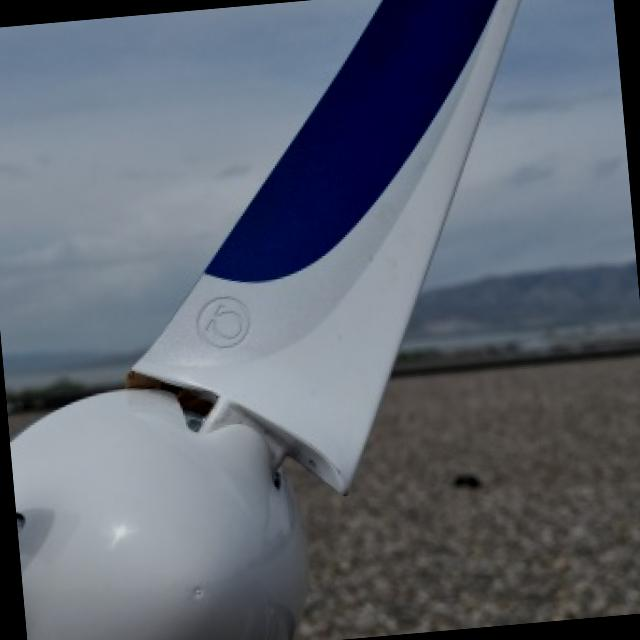healthy: (11, 0, 515, 640)
